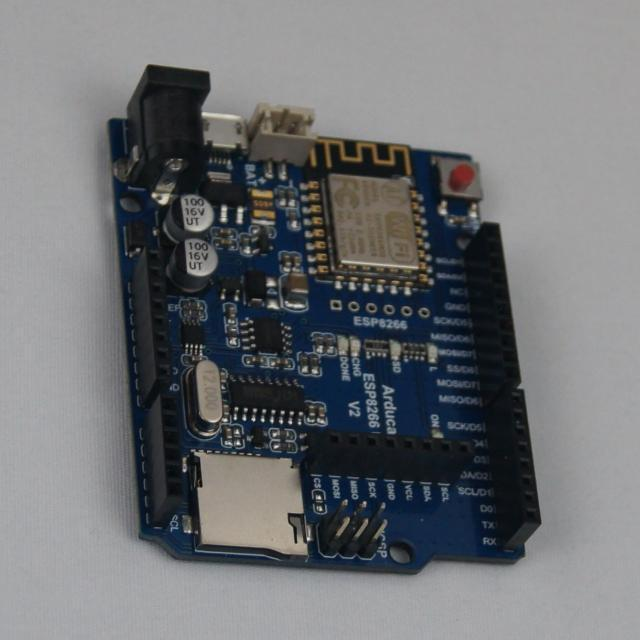Arduino Uno Camera Shield: (109, 66, 541, 574)
